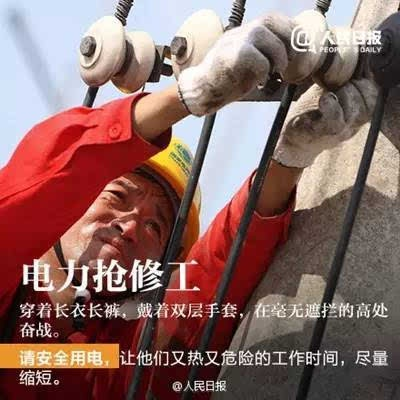yellow: (54, 131, 209, 294)
